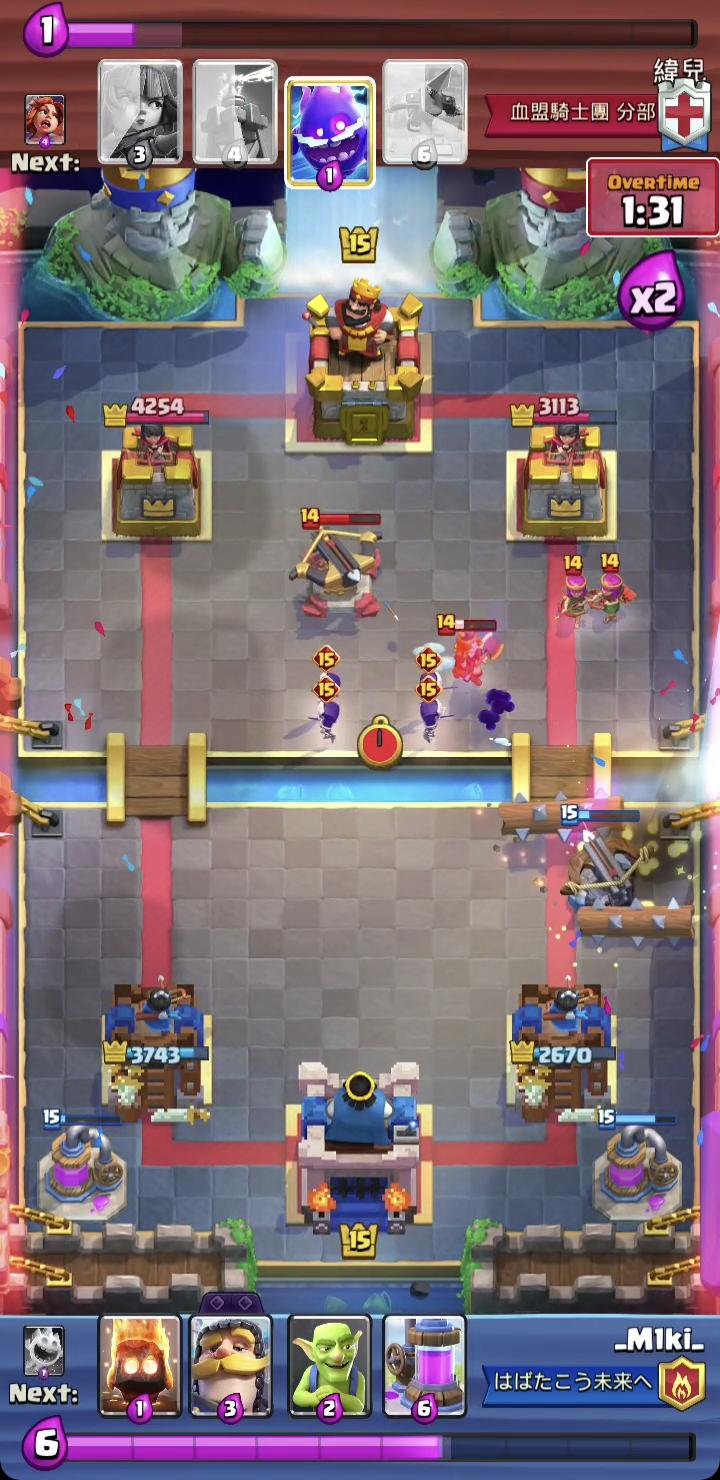ally_elixirpump: (592, 1106, 686, 1226), (35, 1109, 132, 1225)
ally_xbow: (561, 803, 663, 913)
enemy_archer: (555, 552, 596, 623), (592, 551, 638, 614)
enemy_log: (571, 897, 702, 947)
enemy_skeleton_evo: (308, 674, 343, 747), (411, 646, 448, 712), (415, 679, 446, 757), (310, 644, 344, 708)
enemy_valkyrie: (434, 612, 506, 690)
enemy_xbow: (290, 506, 388, 622)
